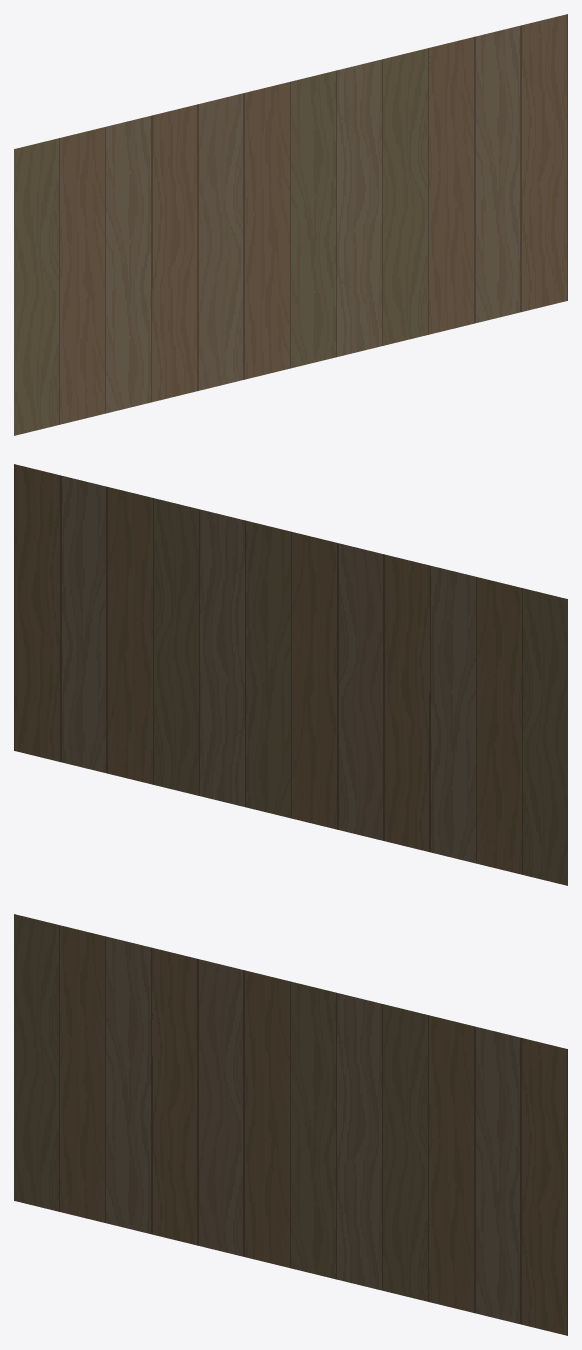
The model's file is kd_stage_135ded_4_9_exterior_piece_0.glb.
3 renders of one model, top to bottom at view 1: azimuth 30°, elevation 25°; view 2: azimuth 150°, elevation 25°; view 3: azimuth 330°, elevation 25°, orthographic.
Parts seen in each view (by area): view 1: kd_stage_135ded_4_9_exterior_piece_0; view 2: kd_stage_135ded_4_9_exterior_piece_0; view 3: kd_stage_135ded_4_9_exterior_piece_0.
Part boxes in pixels (<box>): kd_stage_135ded_4_9_exterior_piece_0: <box>14,14,567,435</box>; kd_stage_135ded_4_9_exterior_piece_0: <box>14,464,567,885</box>; kd_stage_135ded_4_9_exterior_piece_0: <box>14,914,567,1335</box>.
Size of the model in its own units: 1.11 by 0.5475 by 2.38e-07.
Materials: 1 (1 with a texture image).
